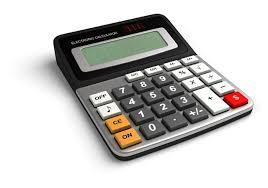Calculator: (49, 10, 262, 177)
